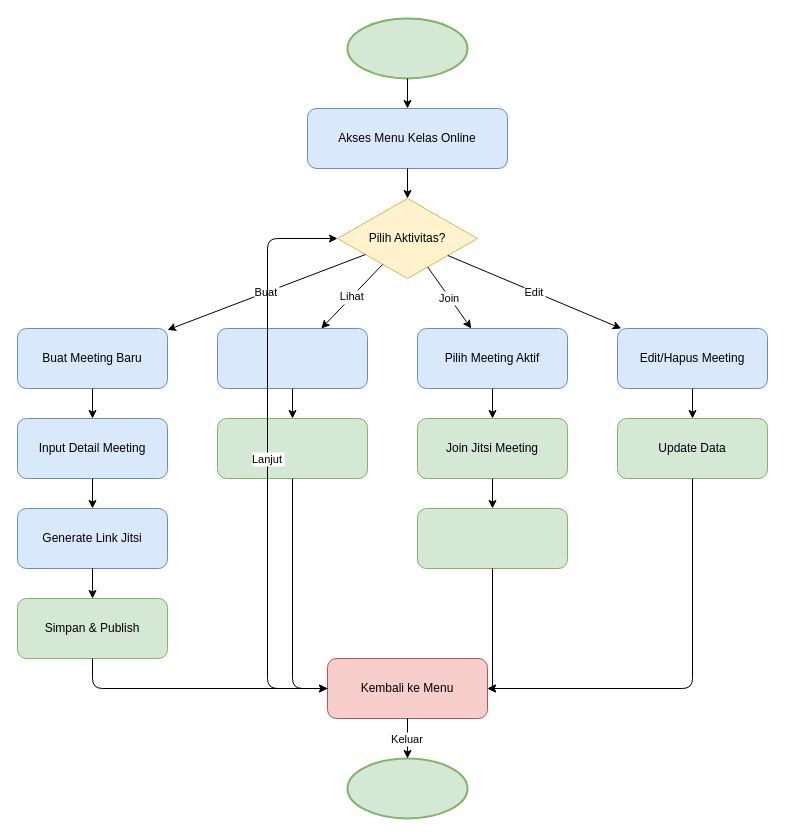
Some shapes in this 785 by 836 pixel diagram are drawn without their labels. Each missing label, with the centre of its shape:
Lihat Jadwal Meeting: the point at 292,358
Mulai: the point at 407,48
Mulai Kelas Online: the point at 492,538
Selesai: the point at 407,788
Tampilkan Daftar: the point at 292,448
